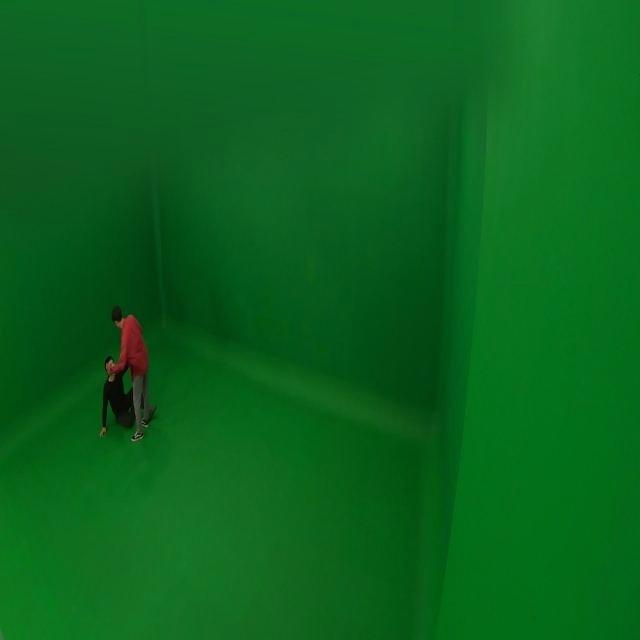fight: (98, 303, 156, 440)
